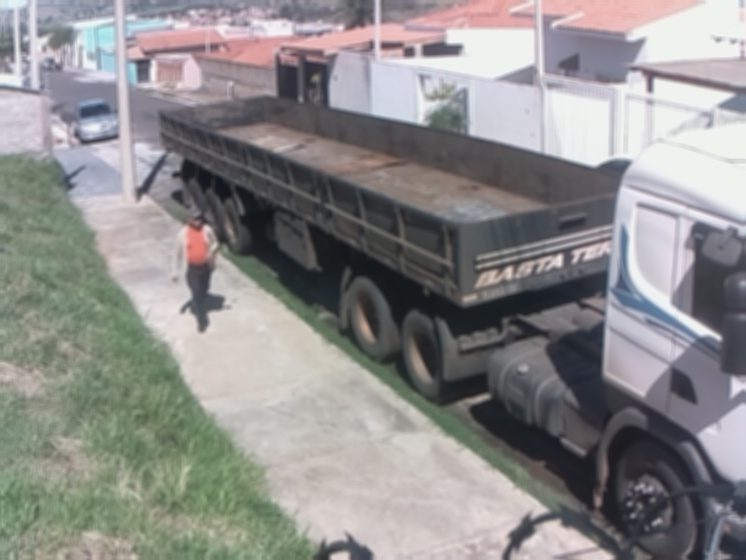person: (168, 206, 231, 332)
